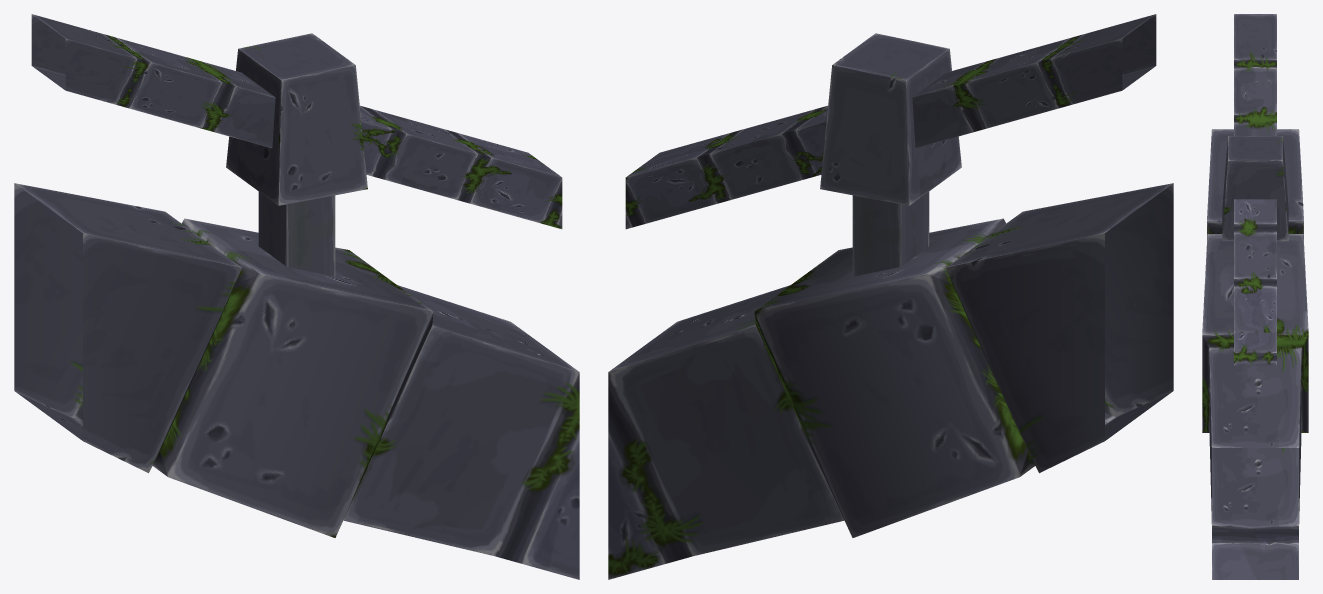
Rendered from MOD_Stairs_01_Railing_4.fbx.
The picture shows the model from 3 angles, left to right: view 1: azimuth 30°, elevation 25°; view 2: azimuth 150°, elevation 25°; view 3: azimuth 270°, elevation 25°; orthographic projection. The views are drawn at different scales.
Visible parts, largest first — view 1: MOD_Stairs_01_Railing_4; view 2: MOD_Stairs_01_Railing_4; view 3: MOD_Stairs_01_Railing_4.
Part boxes in pixels (left/top/right/bottom): MOD_Stairs_01_Railing_4: left=14, top=14, right=579, bottom=579; MOD_Stairs_01_Railing_4: left=608, top=14, right=1173, bottom=579; MOD_Stairs_01_Railing_4: left=1202, top=14, right=1308, bottom=579.
Size of what is drawn, in the model's own units: 200 by 250 by 58.61.
